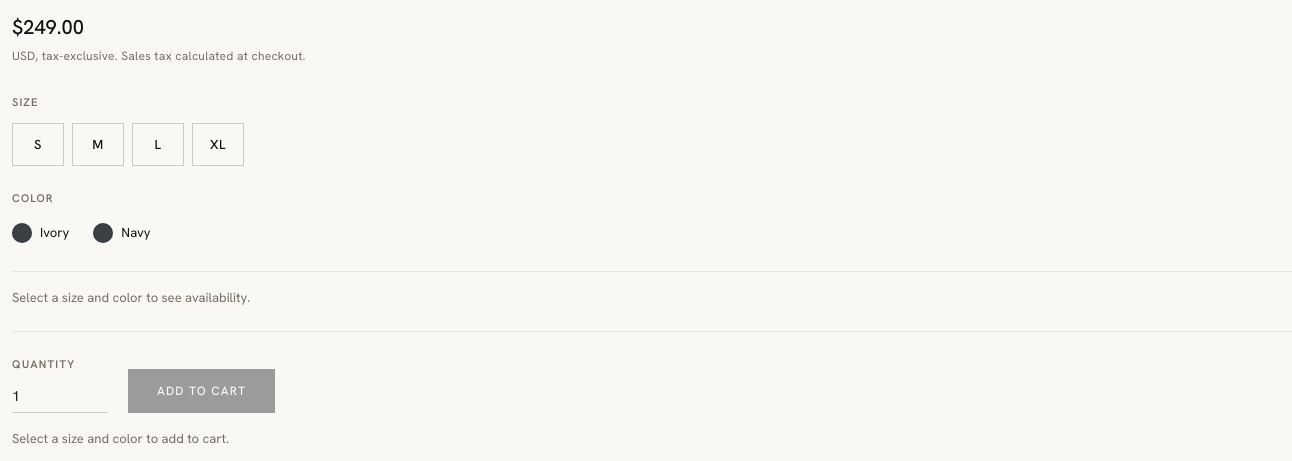
Test case: VariantSelector › updates price, stock message and URL when a base-price variant is selected
Click the button "M" at (98, 144), box [72,123,124,166]
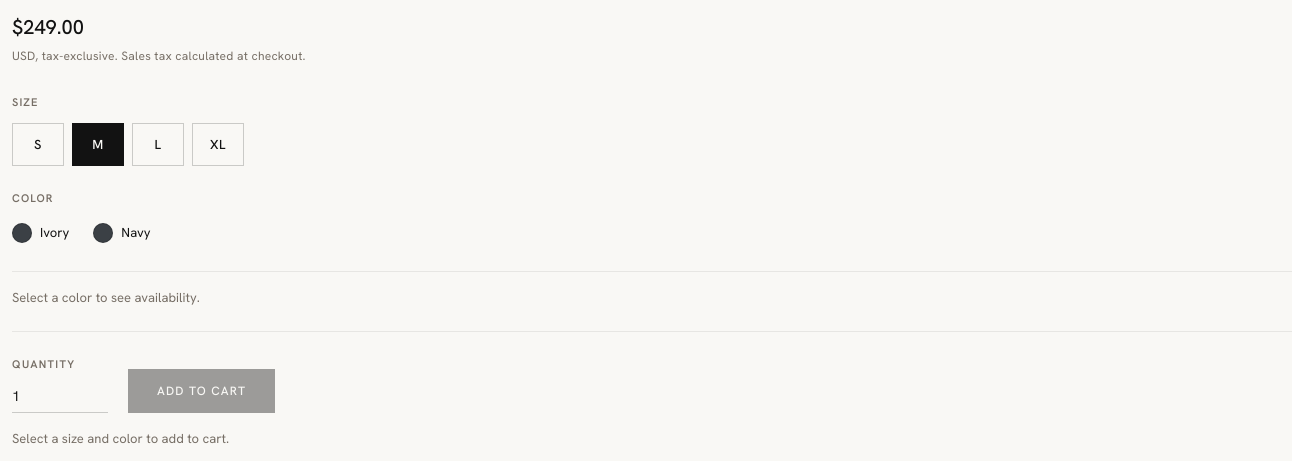
Expected: the text with test id "variant-stock-message" reads "Select a color to see availability.", [12,289,200,306]
Click the button "Ivory" at (41, 233), box [12,219,69,247]
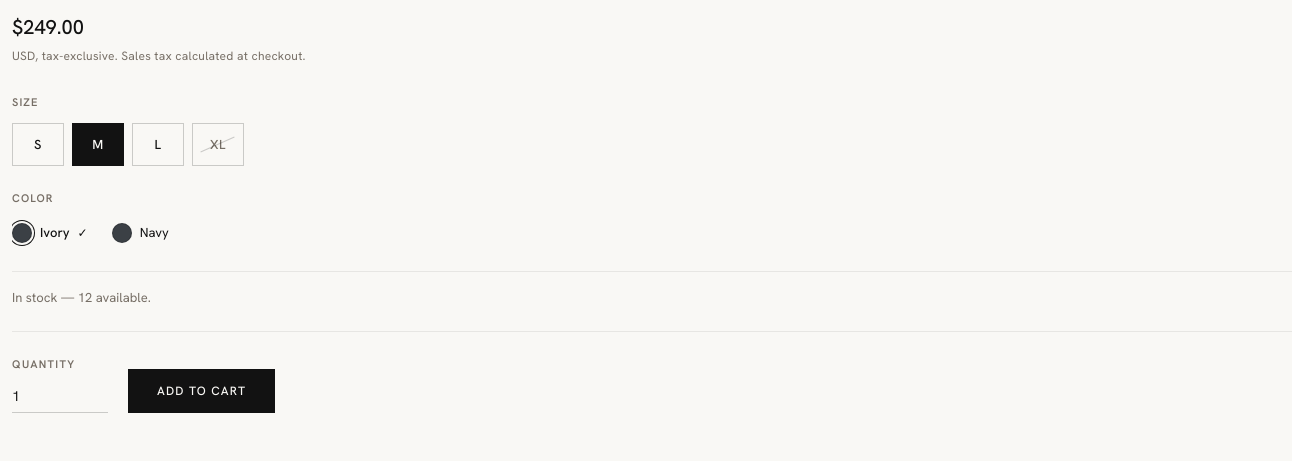
Expected: the text with test id "variant-stock-message" reads "In stock — 12 available.", [12,289,151,306]
Expected: the text with test id "add-to-cart-hint" is gone
Expected: the button "Add to cart" is enabled, [128,369,275,413]
